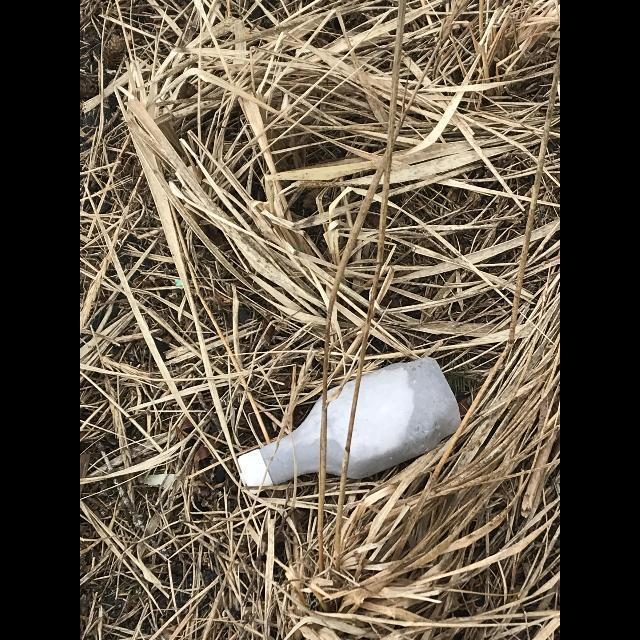Plastic: (260, 358, 462, 484), (237, 450, 273, 494)
